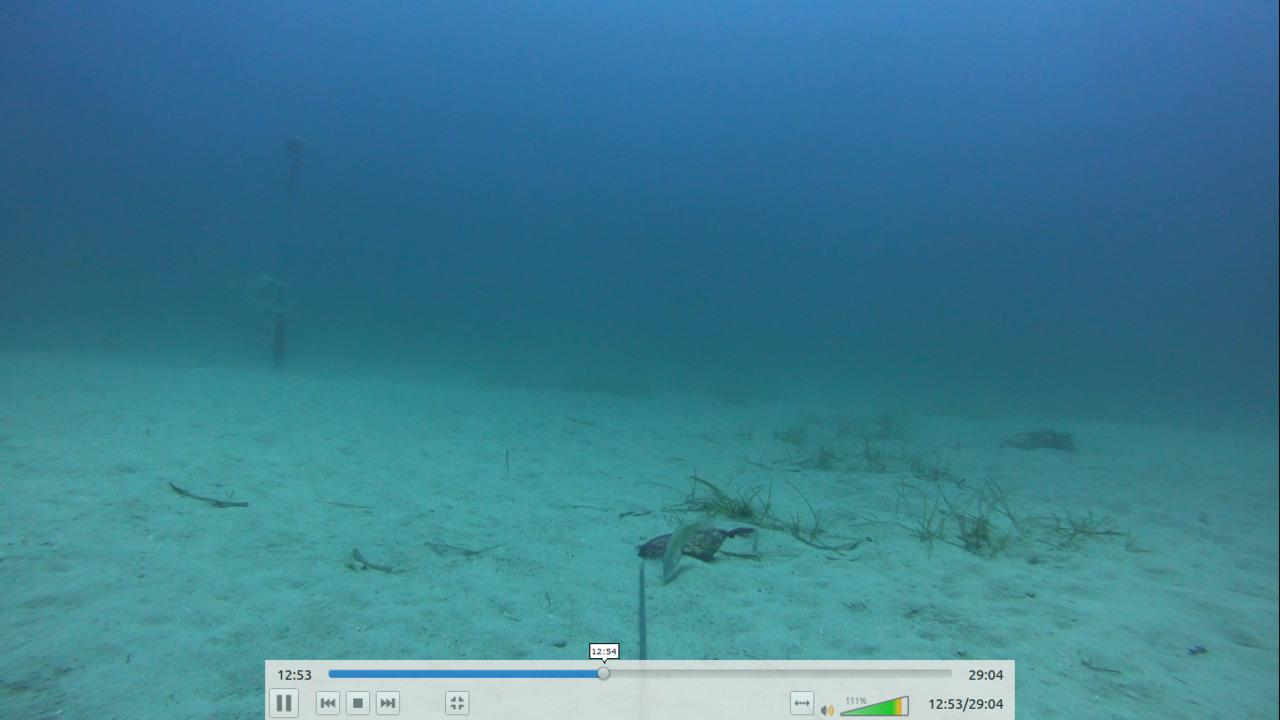raor: (655, 508, 712, 588)
